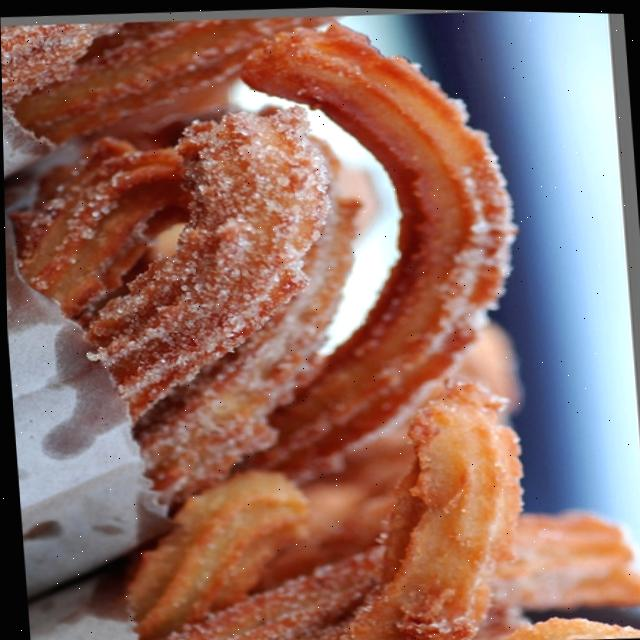炸货点心: (0, 0, 638, 640)
